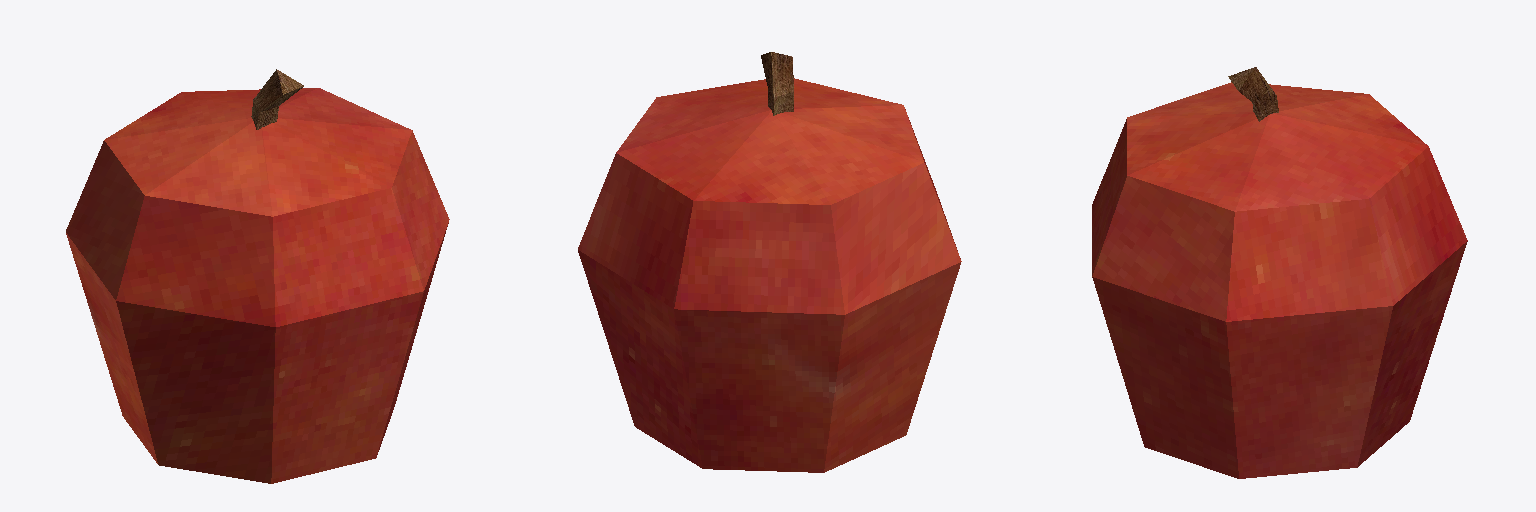
3 views of the same model, side by side, from view 1: azimuth 30°, elevation 25°; view 2: azimuth 150°, elevation 25°; view 3: azimuth 270°, elevation 25° (orthographic).
Visible parts, largest first — view 1: AppleRight, AppleLeft, Stem; view 2: AppleRight, AppleLeft, Stem; view 3: AppleLeft, AppleRight, Stem.
Boxes of the visible parts, box(x1,y1,x2,y2) form: AppleRight: box(66, 90, 356, 482); AppleLeft: box(251, 88, 449, 483); Stem: box(251, 69, 303, 129); AppleRight: box(653, 84, 961, 472); AppleLeft: box(578, 78, 818, 469); Stem: box(761, 52, 793, 115); AppleLeft: box(1092, 146, 1450, 478); AppleRight: box(1092, 82, 1467, 328); Stem: box(1228, 67, 1278, 121).
Bounding box in the file's own units: 0.9749 × 1.08 × 0.9505.
4 materials, 3 textured.